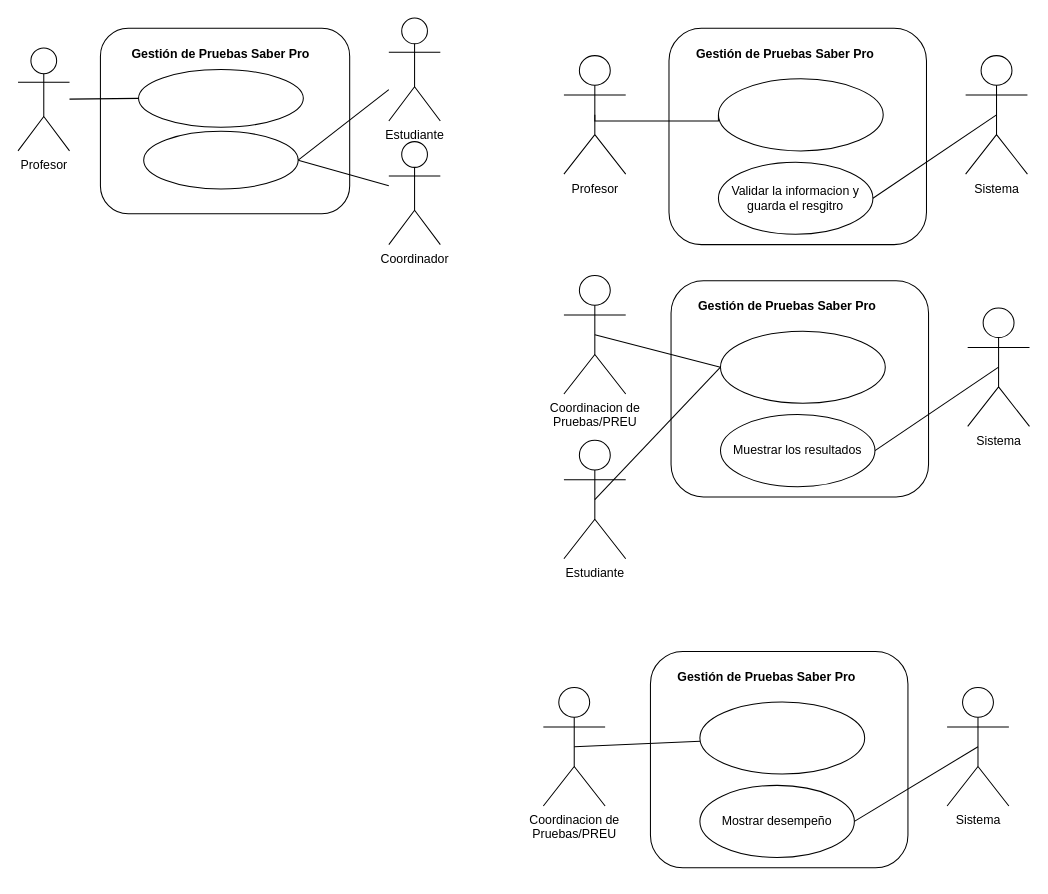
The diagram is 1048 pixels wide and 894 high, and some of its shapes have lost their labels. The centre of each missing label's shape, as x and y in pixels:
"Consultar alguno de los simulacros" belongs at (x=802, y=366).
"Consultar desempeño (por grupo o individual)" belongs at (x=782, y=737).
"Consultar resultados del simulacro" belongs at (x=220, y=159).
"Registrar los resultados del simulacro" belongs at (x=800, y=114).
"Registrar resultados del simulacro" belongs at (x=220, y=97).
